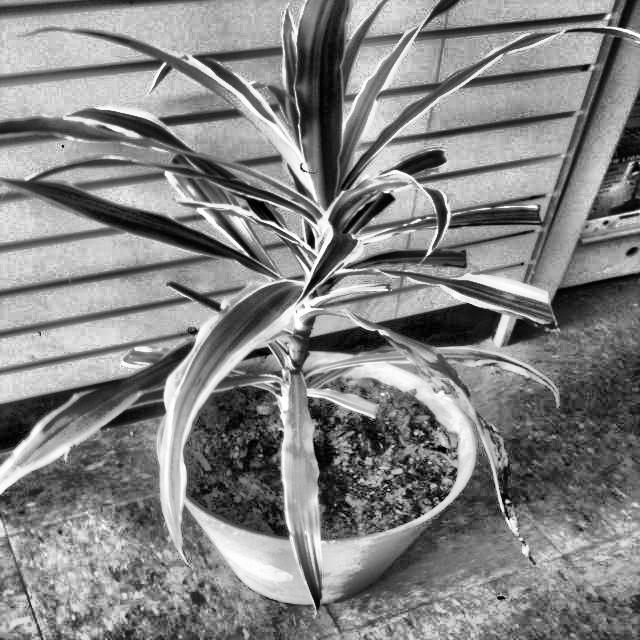plants: (8, 7, 576, 610), (338, 267, 573, 572)
